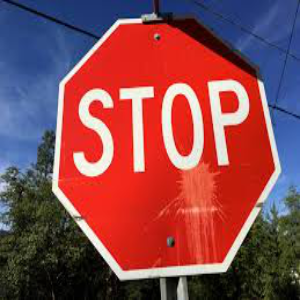STOP_SIGN: (51, 13, 282, 281)
